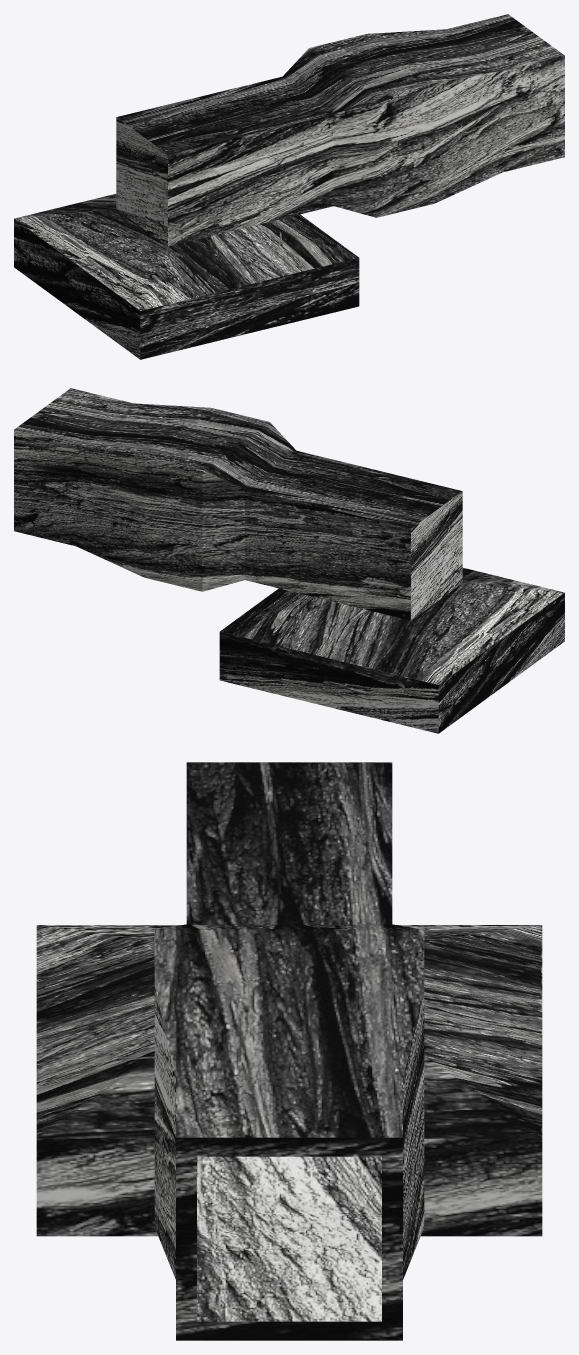
The model's file is tubo.dae.
3 views of the same model, one above another, from view 1: azimuth 30°, elevation 25°; view 2: azimuth 150°, elevation 25°; view 3: azimuth 270°, elevation 25° (orthographic). The views are drawn at different scales.
Visible parts, largest first — view 1: Cube; view 2: Cube; view 3: Cube.
Boxes of the visible parts, x1,y1,x2,y2 form: Cube: (14, 14, 564, 359); Cube: (14, 388, 564, 733); Cube: (36, 762, 542, 1340).
Size of the model in its own units: 1.86 by 0.8874 by 0.6819.
Materials: 1 (1 with a texture image).
